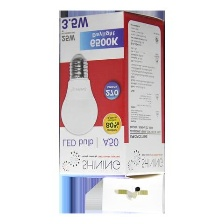carton: (51, 10, 168, 183)
